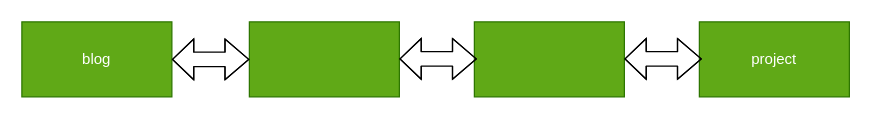
Image size: 871x119. Some labels were removed from this diagram. Here are the shapes that lost their labels. From the top down, the centre of each, then its label:
At point (323, 59): "index".
At point (548, 59): "pictures".
